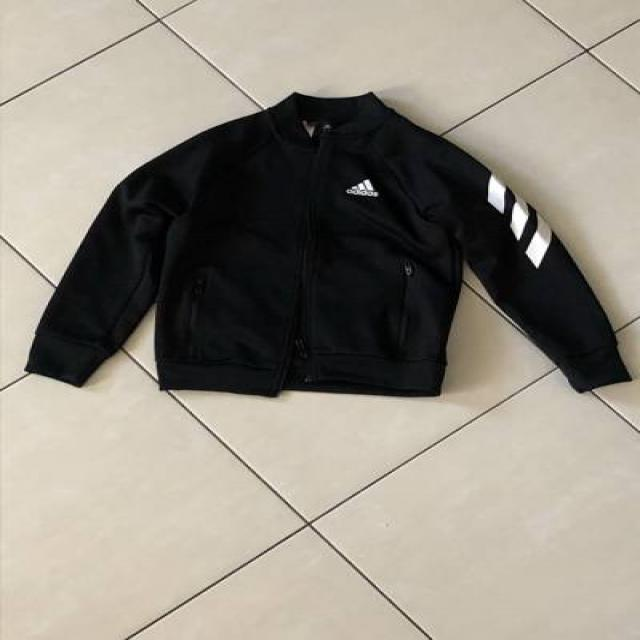Clothes -Biodegradable-: (24, 89, 631, 398)
